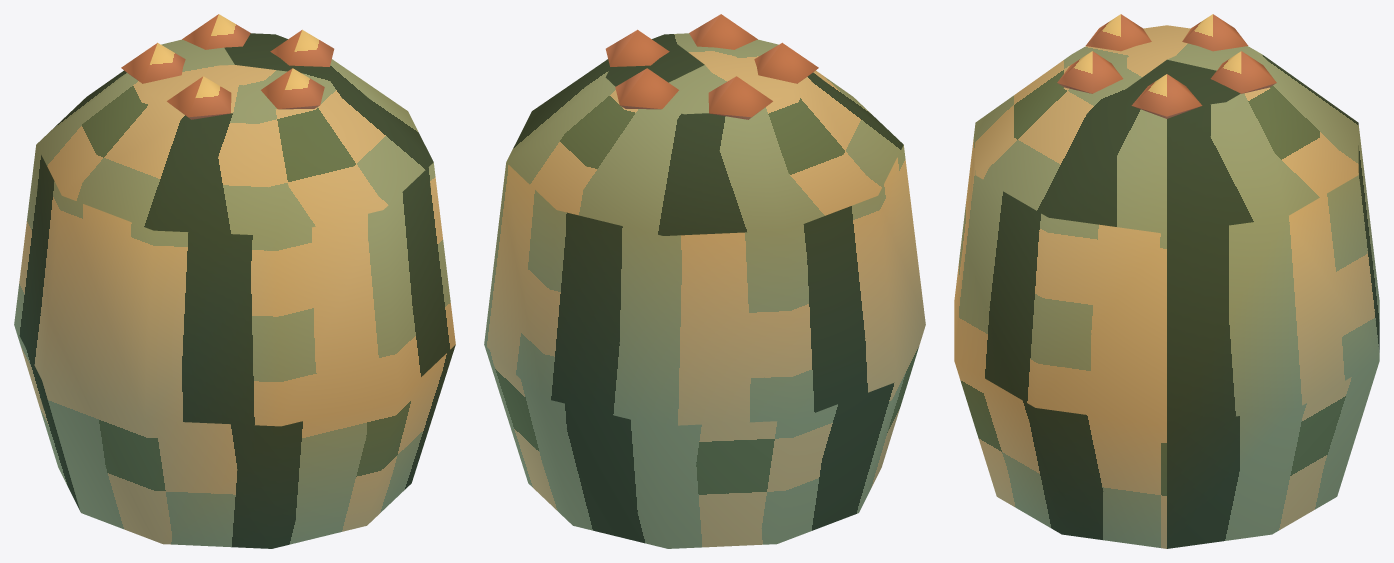
The model's file is wprop.cactus__barrel.glb.
The picture shows the model from 3 angles, left to right: view 1: azimuth 30°, elevation 25°; view 2: azimuth 150°, elevation 25°; view 3: azimuth 270°, elevation 25°; orthographic projection.
Parts seen in each view (by area): view 1: kit_body, kit_flowers; view 2: kit_body, kit_flowers; view 3: kit_body, kit_flowers.
Boxes of the visible parts, left/top/right/bottom form: kit_body: left=14, top=33, right=455, bottom=548; kit_flowers: left=121, top=14, right=334, bottom=119; kit_body: left=484, top=33, right=925, bottom=548; kit_flowers: left=605, top=14, right=818, bottom=119; kit_body: left=954, top=25, right=1379, bottom=548; kit_flowers: left=1057, top=14, right=1276, bottom=118.
Bounding box in the file's own units: 0.6 × 0.64 × 0.5706.
Materials: 2 (2 with a texture image).
